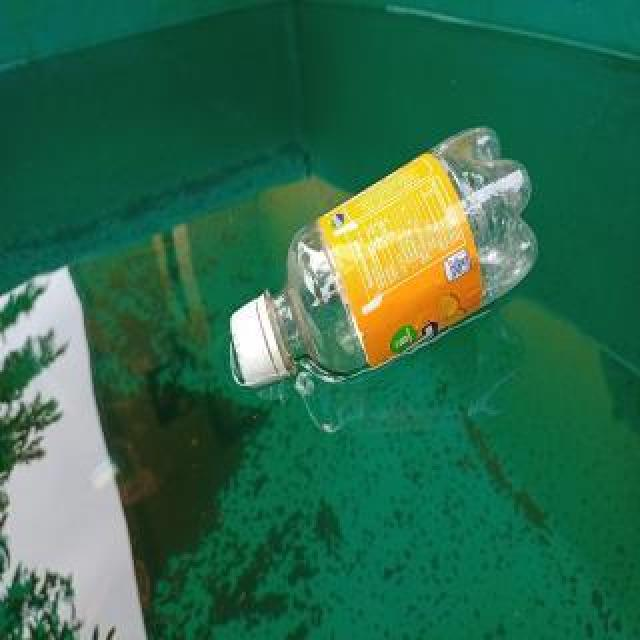bottle: (225, 115, 545, 391)
